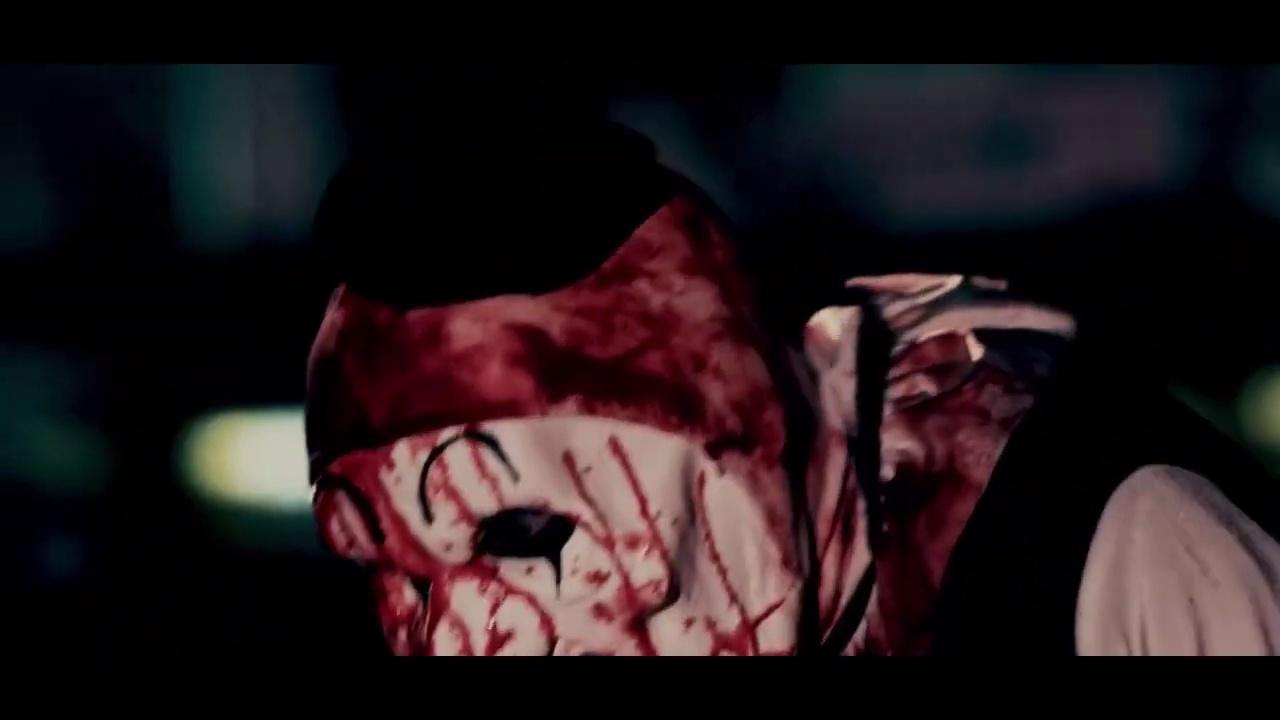Fire: (307, 198, 1033, 657)
